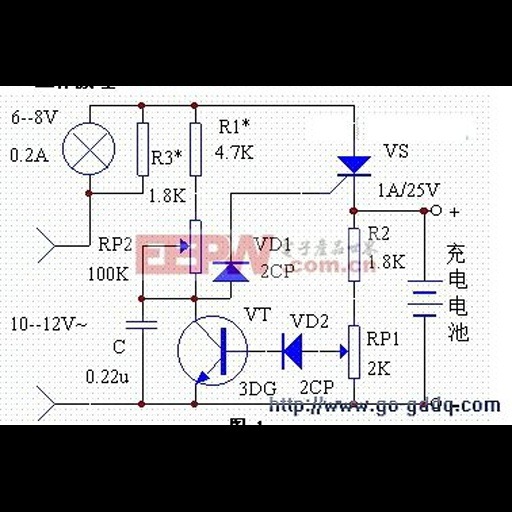battery: (403, 276, 445, 322)
capacitor: (122, 315, 159, 335)
firstdiode: (207, 255, 253, 286), (276, 330, 309, 371)
firstresistance: (344, 224, 363, 285), (187, 120, 206, 180), (134, 118, 151, 180)
light: (60, 122, 120, 178)
npn: (194, 320, 234, 383)
